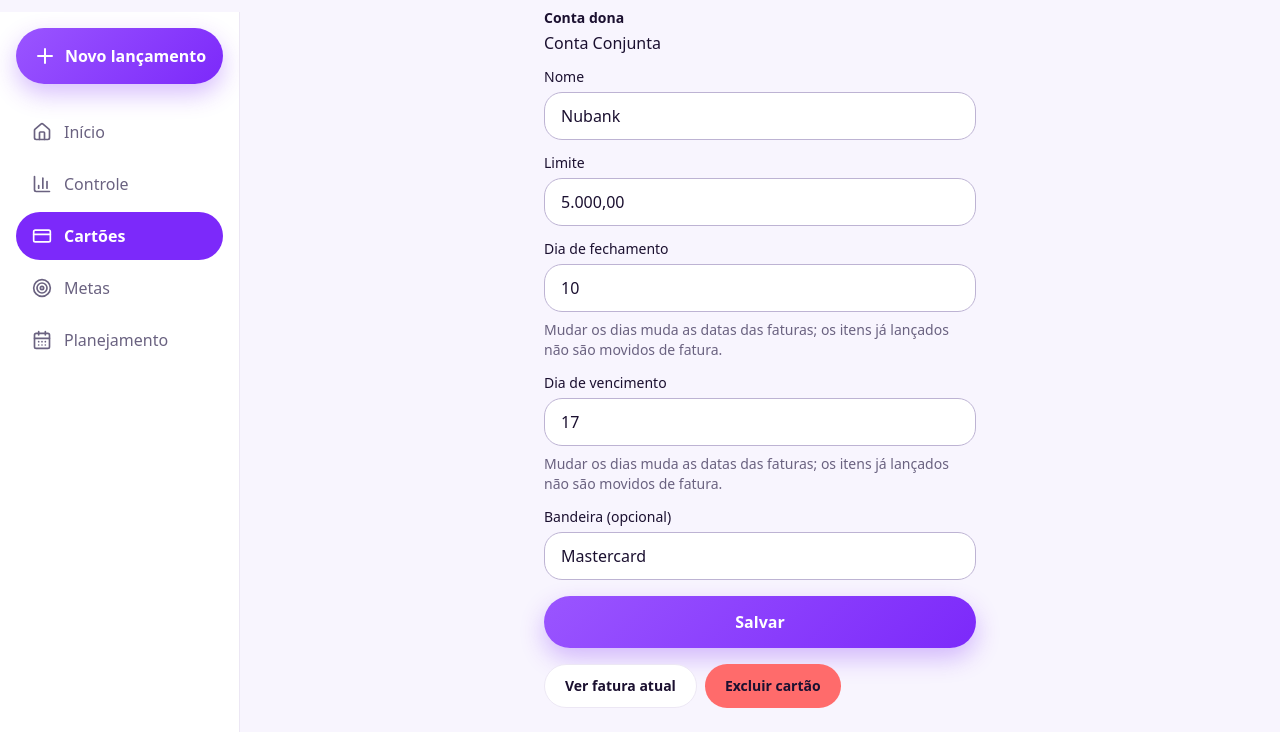
Test: detalhe e edição do cartão (CA-4.01) › erro do servidor no PATCH aparece no campo e como aviso
(page scrolled)
Click the button "Salvar".
click(760, 622)  # box [544,596,976,648]
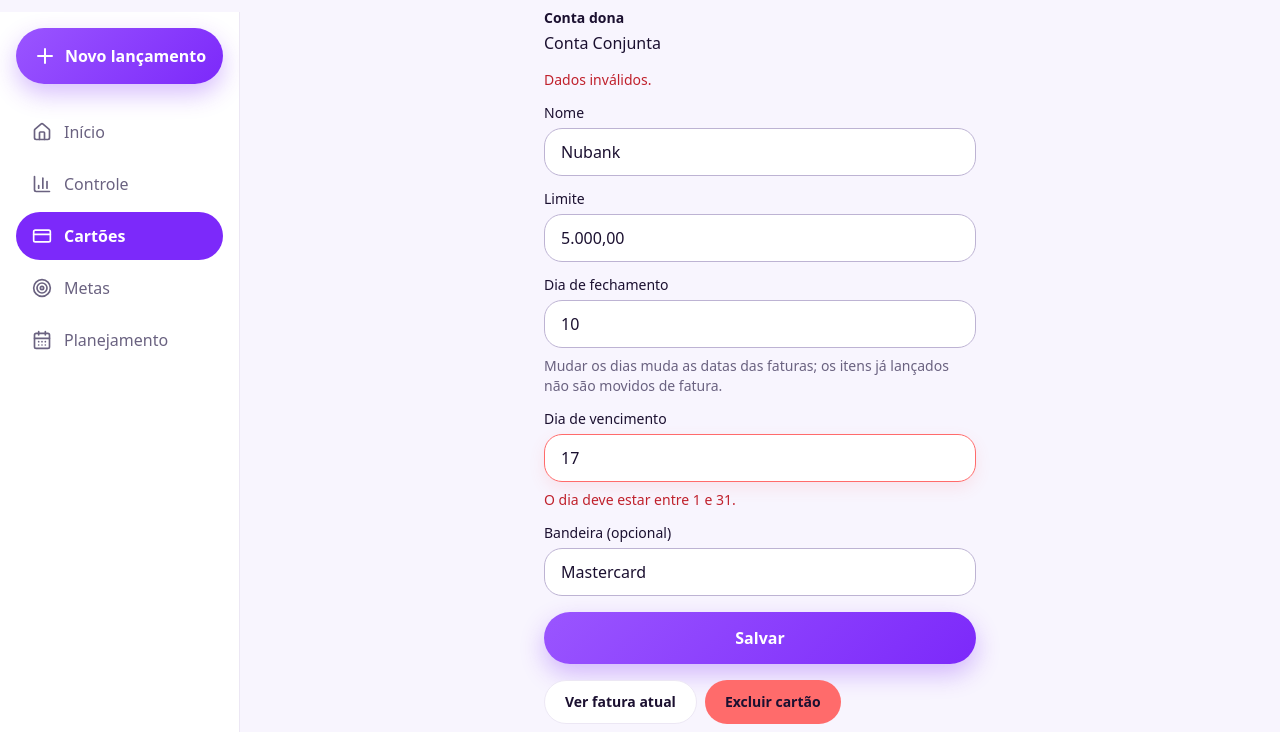
Expected: the text "O dia deve estar entre 1 e 31." is shown, [544,490,736,509]
Expected: the message reads "Dados inválidos.", [544,70,652,89]
